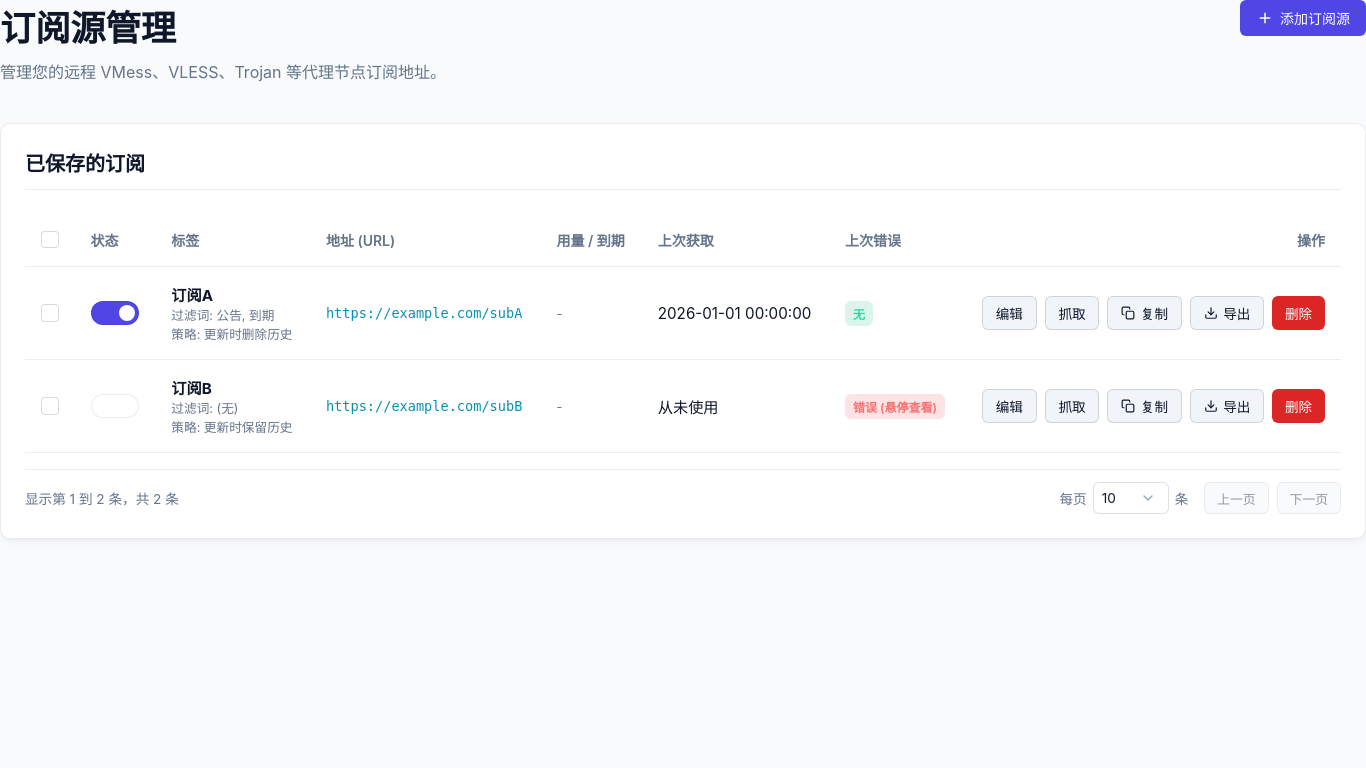
it: SubscriptionsView - 订阅管理 › 添加订阅 modal › keywords 文本框默认填充常见关键词
What coordinates should you click on to do the following:
click the button "添加订阅源"
I would click on:
 (1303, 18)
Its box is [1240, 0, 1365, 36].
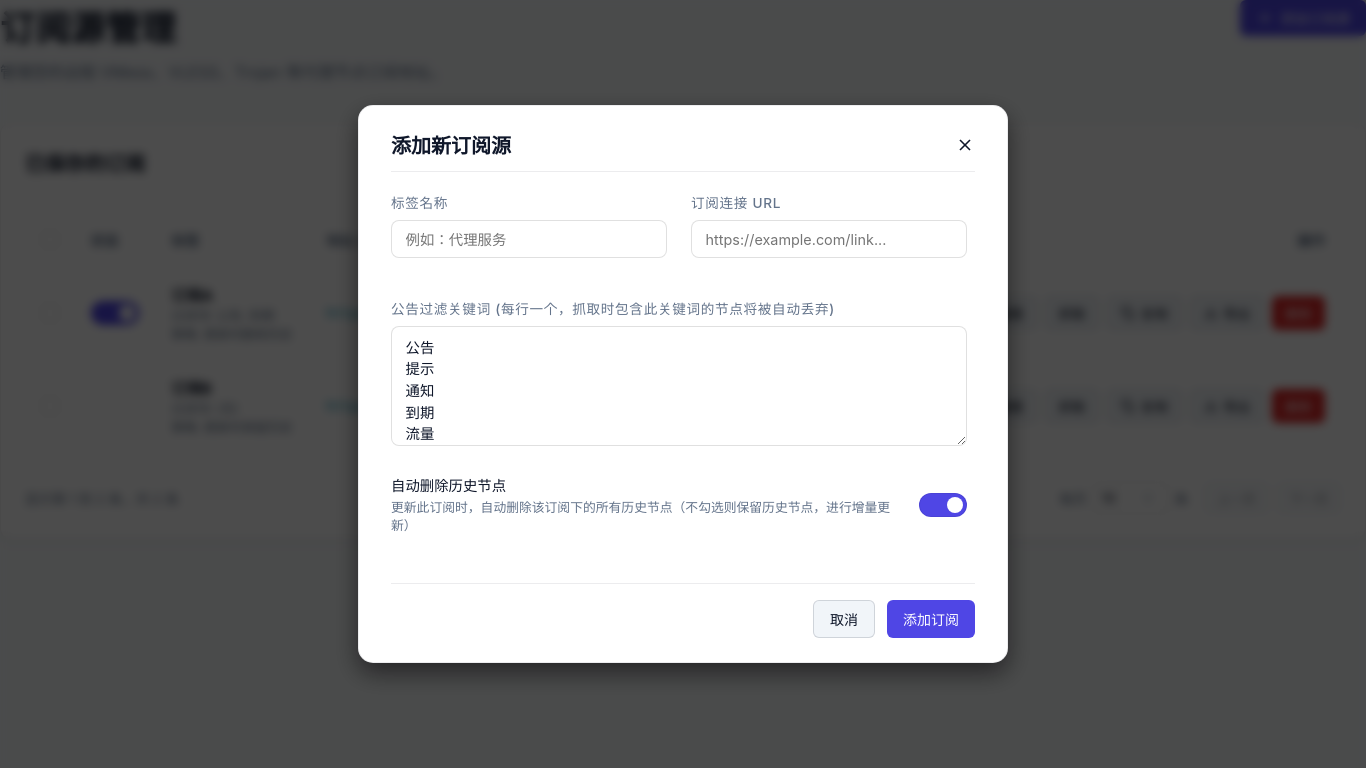
Expected: the text box is shown, [391, 326, 967, 446]
